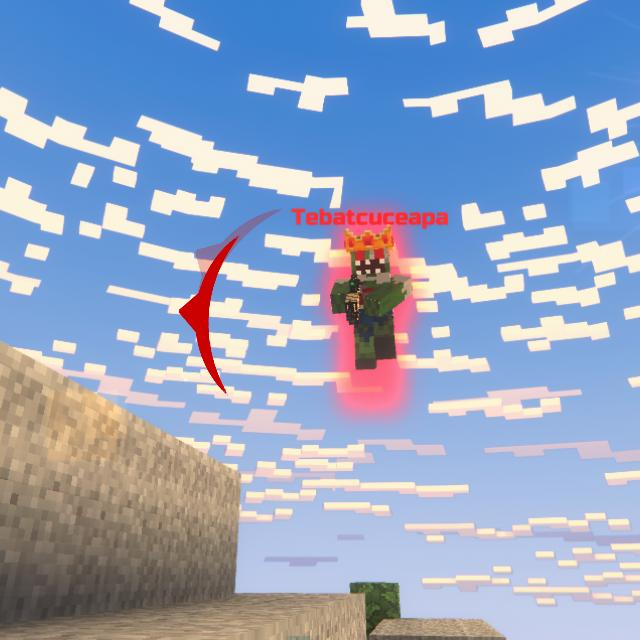Enemy: (330, 234, 411, 369)
